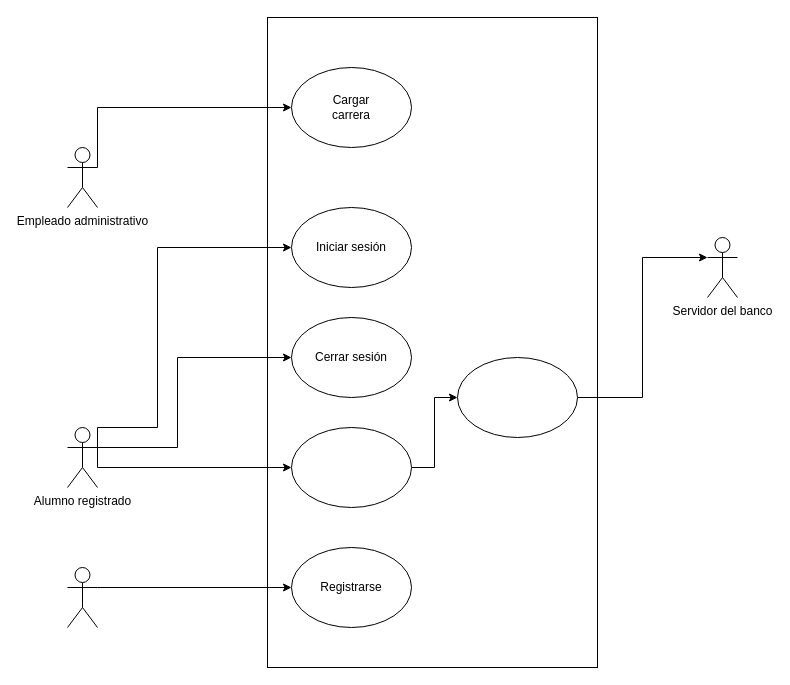
The diagram is 790 pixels wide and 685 high, and some of its shapes have lost their labels. Here are the shapes that lost their labels. From the top down, the centre of each, then its label:
point (517, 397): Pagar con tarjeta
point (351, 467): Inscribirse a una carrera
point (82, 597): Alumno no registrado
